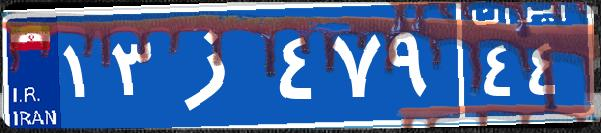1: (57, 26, 110, 107)
3: (110, 28, 158, 105)
4: (273, 28, 330, 110), (475, 38, 525, 113), (525, 38, 570, 115)
7: (330, 28, 385, 110)
9: (385, 28, 445, 110)
ز: (158, 15, 273, 115)
